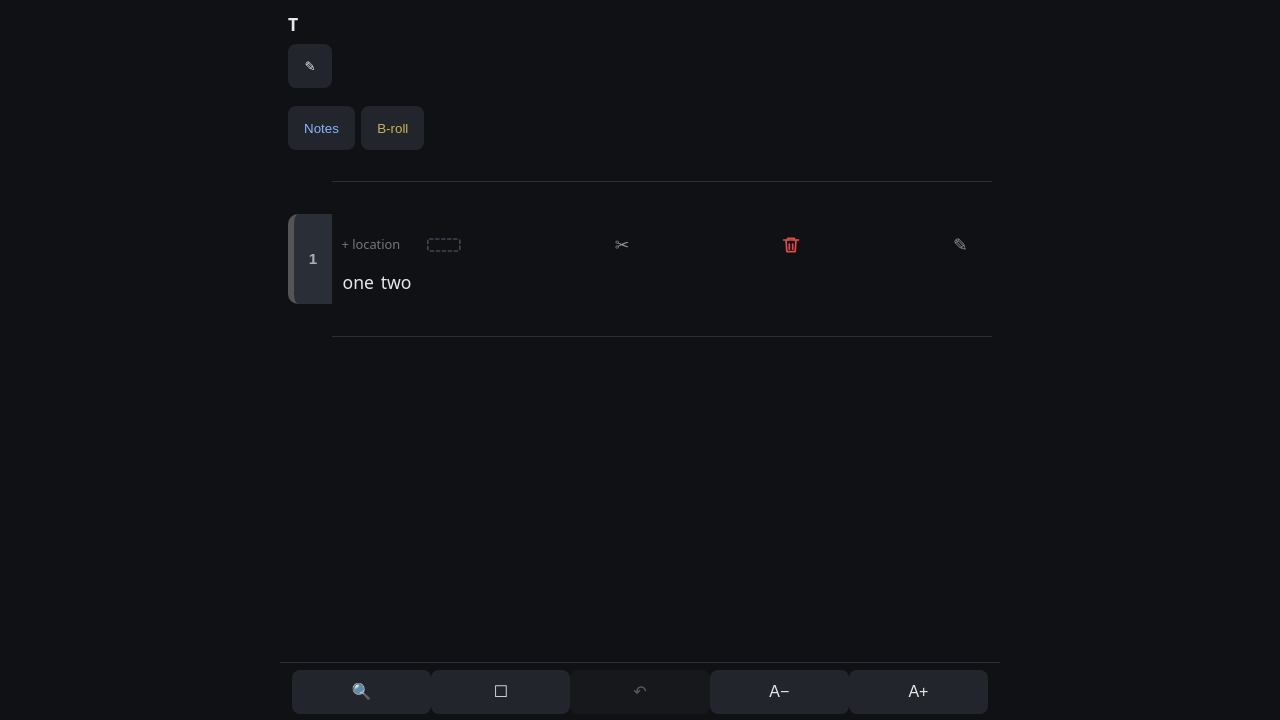
Test: location popup next to the label › on the reading screen: opens next to the tapped label, saves on tapping outside, no bottom sheet
This screenshot has width=1280, height=720.
Click the button with class "loc-btn" at (371, 244), box x1=342 y1=222 x2=400 y2=266
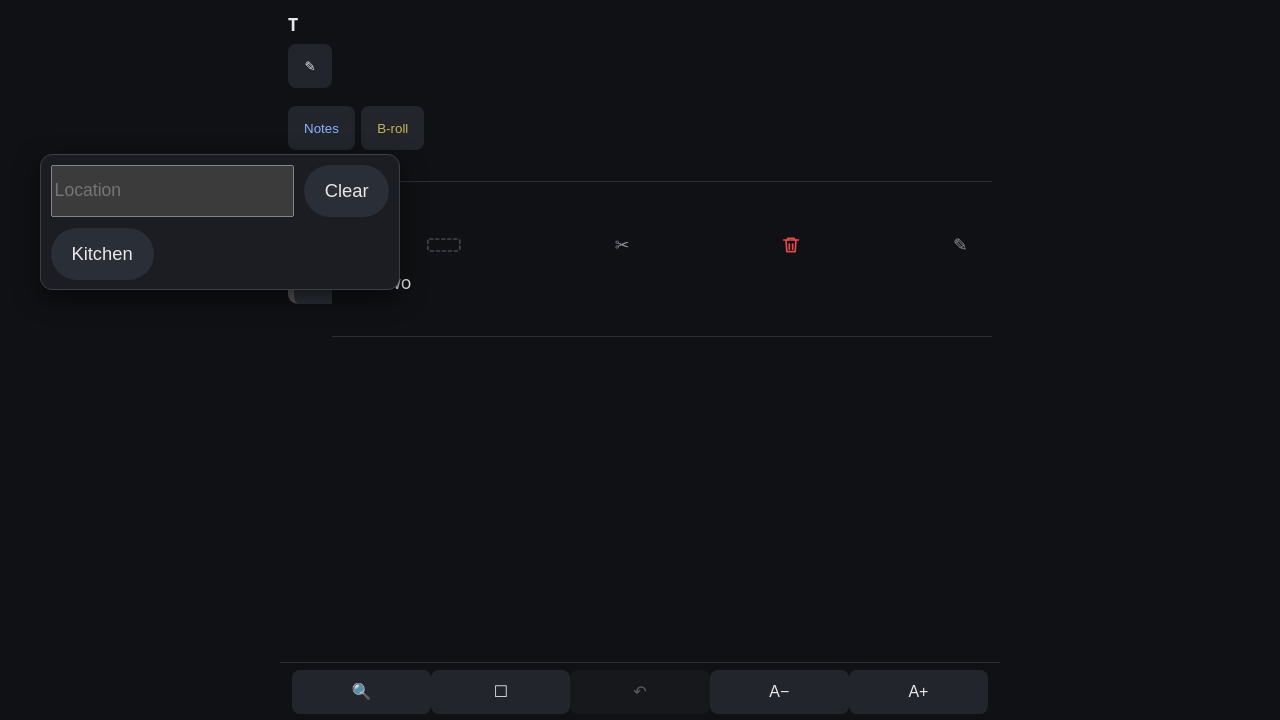
Type "Garage" into the field with placeholder "Location" at (172, 191), box x1=51 y1=165 x2=294 y2=217
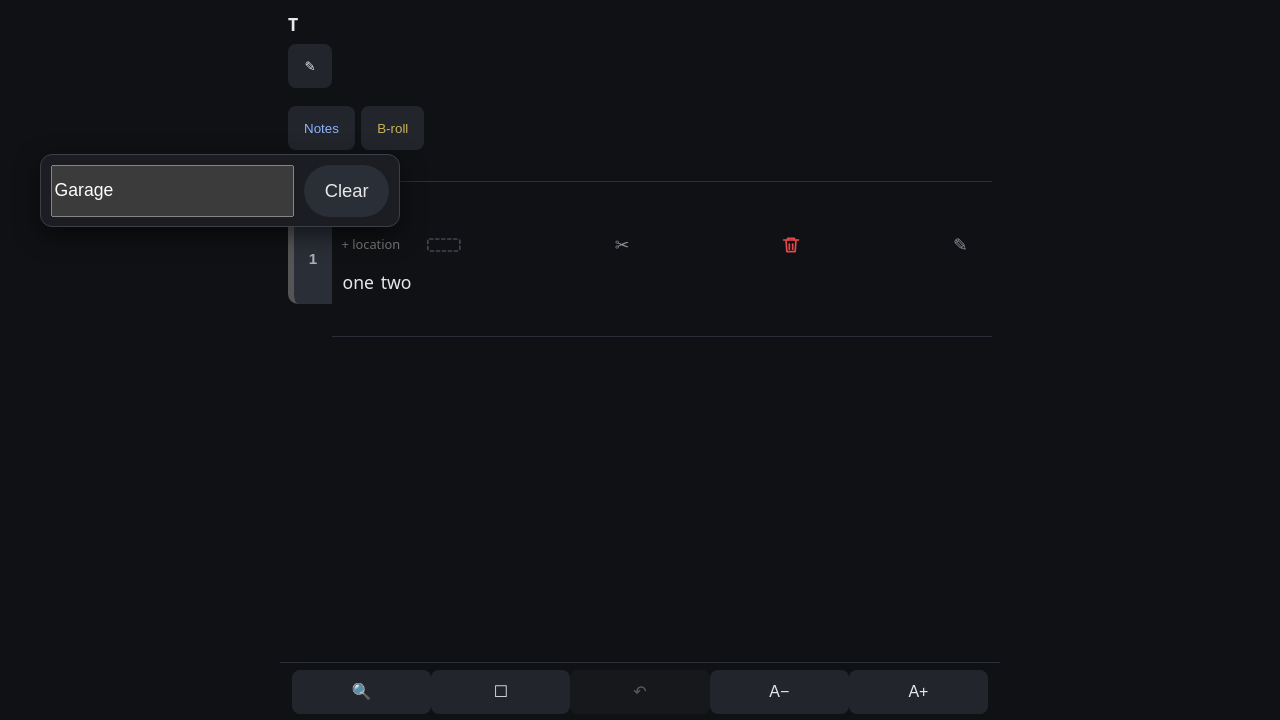
Click the element with class "loc-backdrop" at (640, 360), box x1=0 y1=0 x2=1279 y2=719
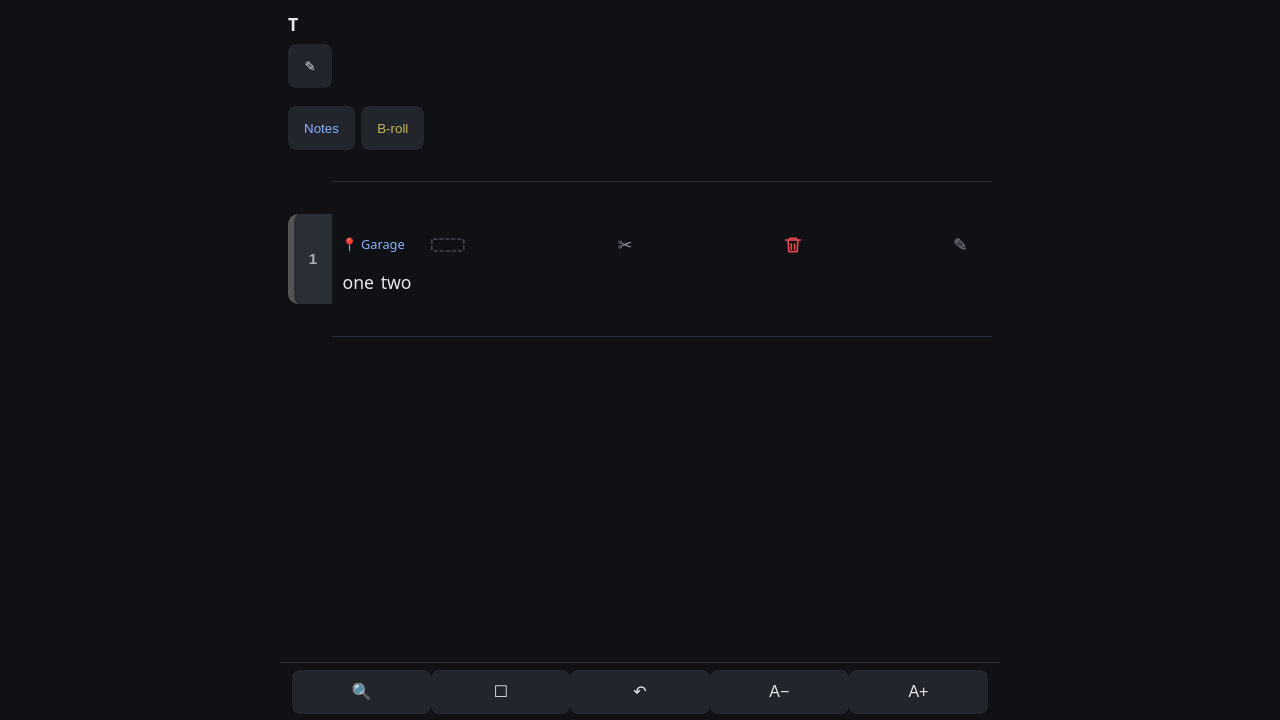
Expected: the element with class "loc-pop" is gone
